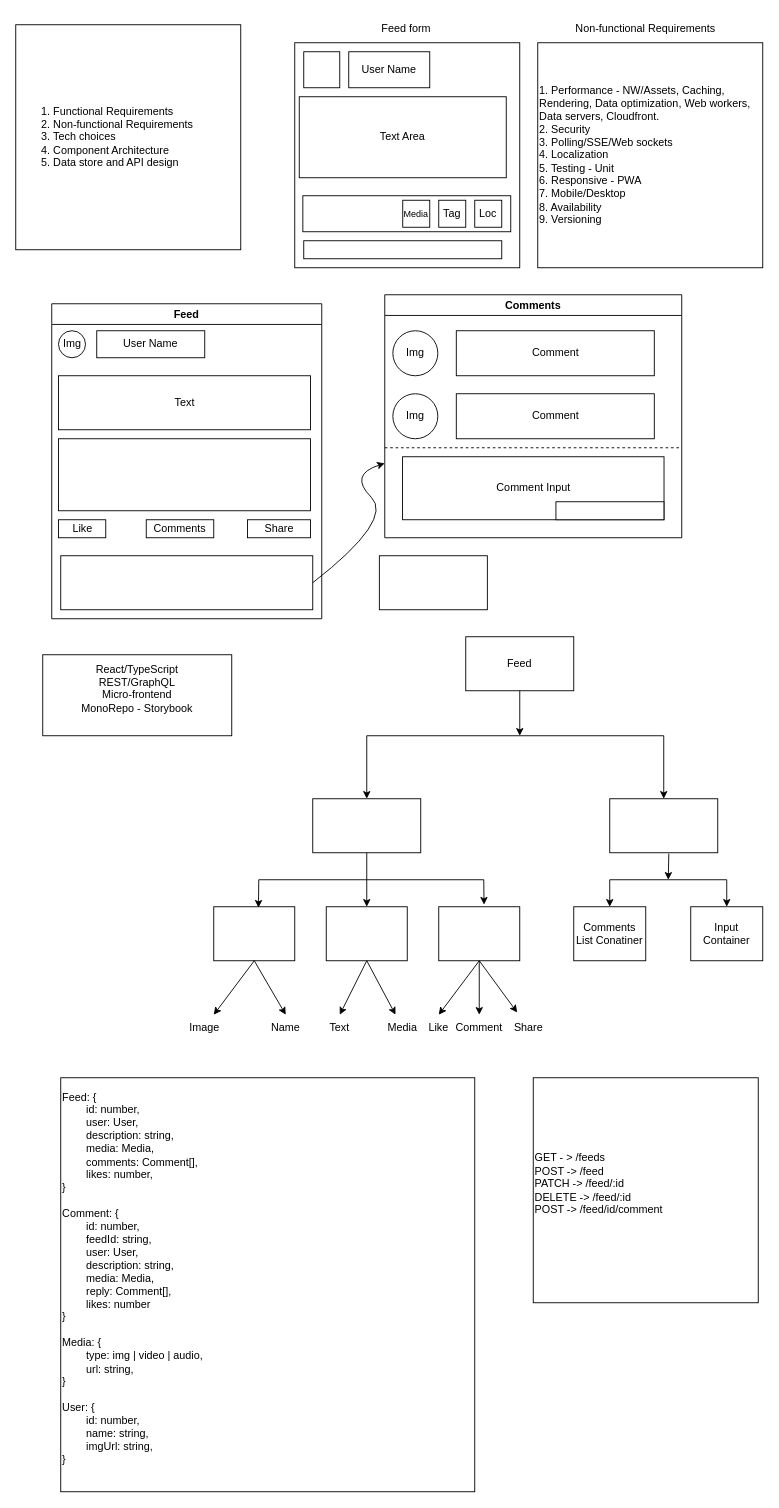
Image size: 779x1508. Some labels were removed from this diagram. Each missing label, with the centre of its shape:
"Action Container" belongs at (479,933).
"Actions" belongs at (609,510).
"Comment Section" belongs at (663,825).
"Comments Section" belongs at (186,582).
"Infinite scroll" belongs at (432,582).
"Media (Img/Video)" belongs at (184,474).
"Post Button" belongs at (402,249).
"Story" belongs at (366,825).
"Text/Media Container" belongs at (366,933).
"User Img" belongs at (321,69).
"User Info" belongs at (254,933).
